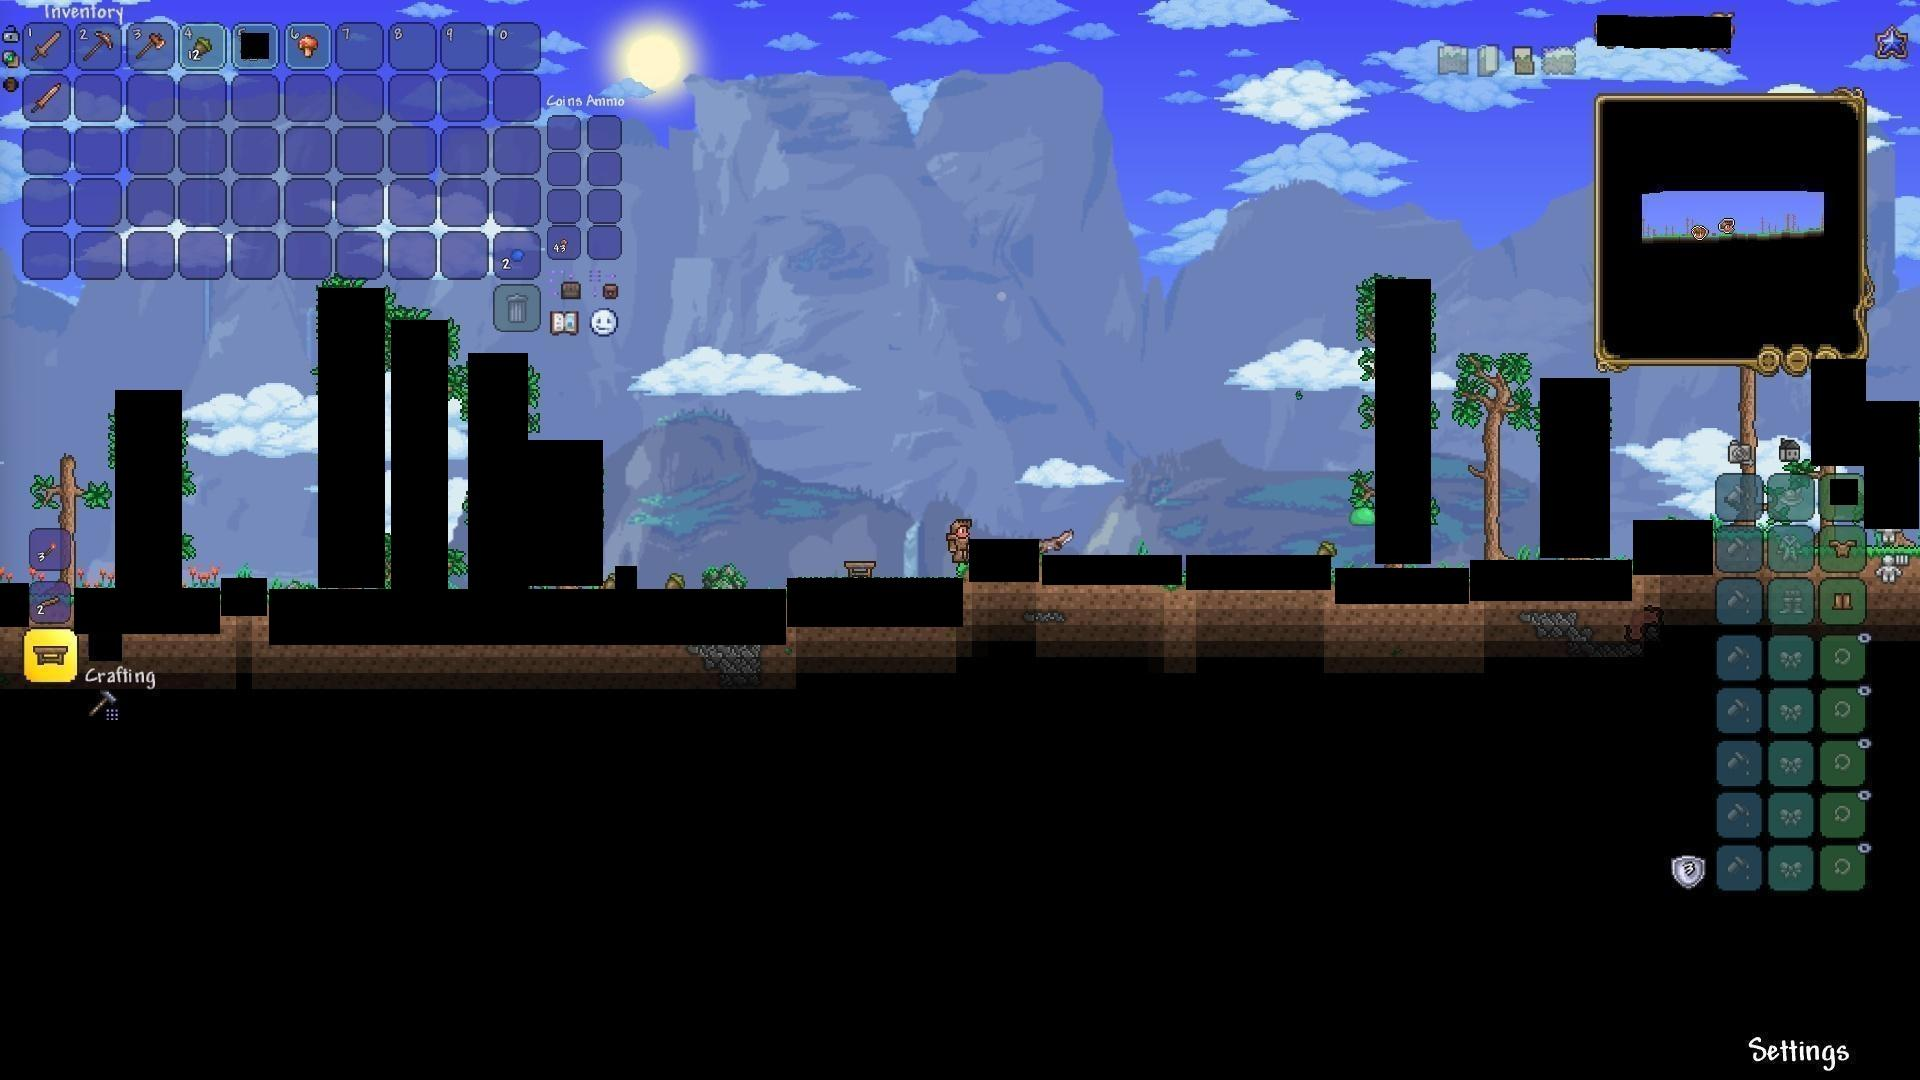breastplate: (1830, 537, 1858, 556)
legs: (1830, 589, 1857, 615)
slime: (1352, 505, 1377, 533)
tree: (1455, 345, 1527, 555), (53, 444, 80, 582)
workbench: (843, 556, 880, 582), (32, 640, 69, 665)
